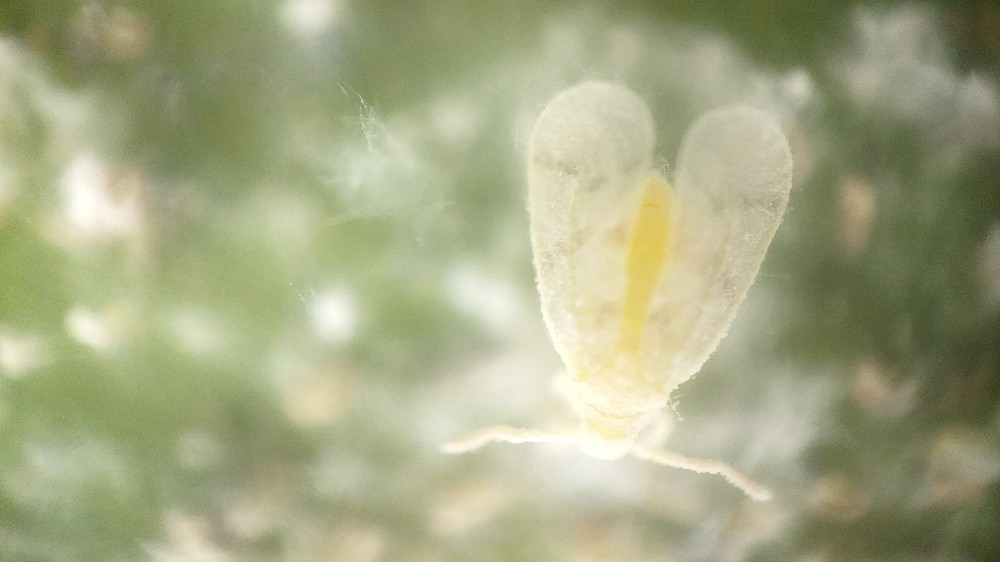Mosca Blanca: (432, 88, 832, 523)
